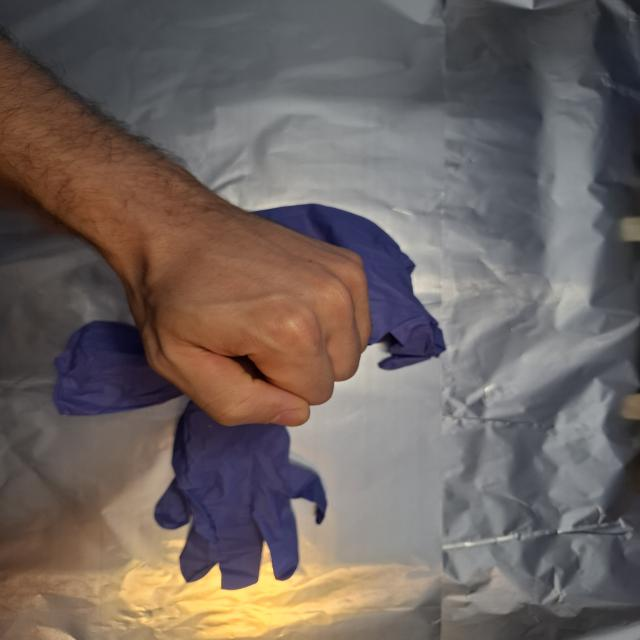glove_off: (115, 217, 375, 430)
